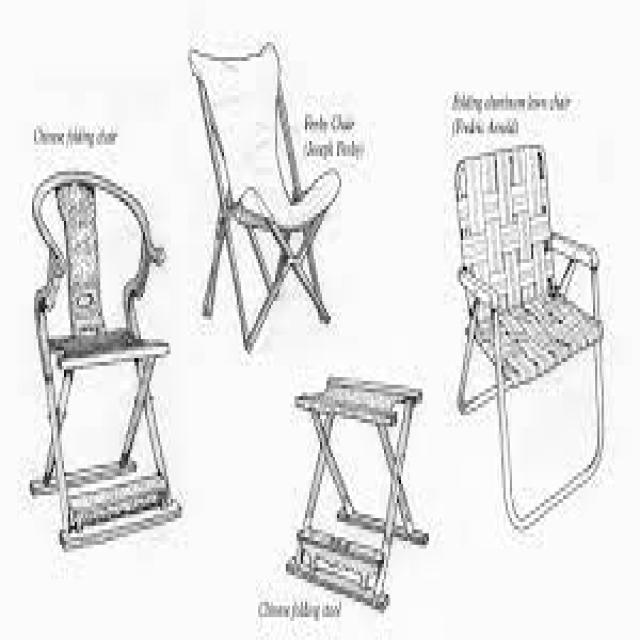chair: (437, 123, 634, 581), (166, 5, 382, 375), (12, 154, 191, 588), (260, 339, 431, 640)
